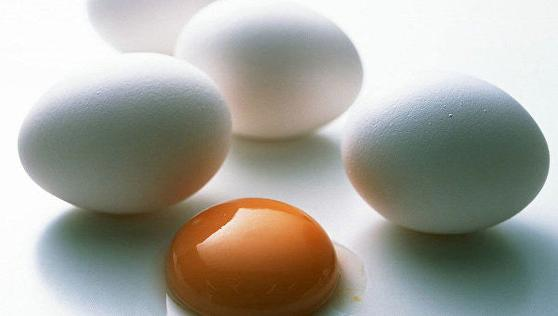egg: (15, 50, 236, 218), (344, 66, 550, 244), (181, 3, 365, 142)
